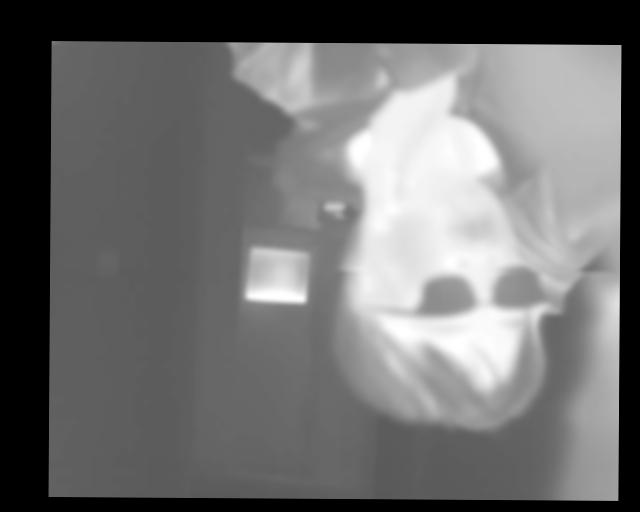face: (329, 180, 543, 431)
